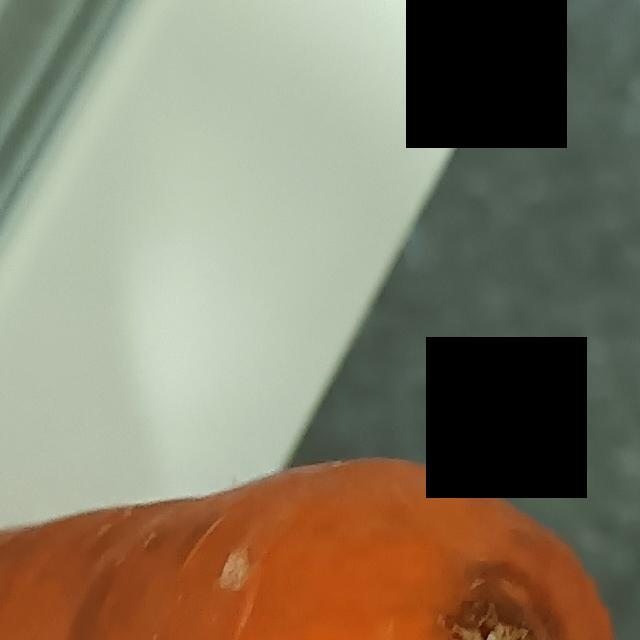carrot: (1, 452, 635, 640)
